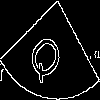Q: (25, 24, 71, 86)
